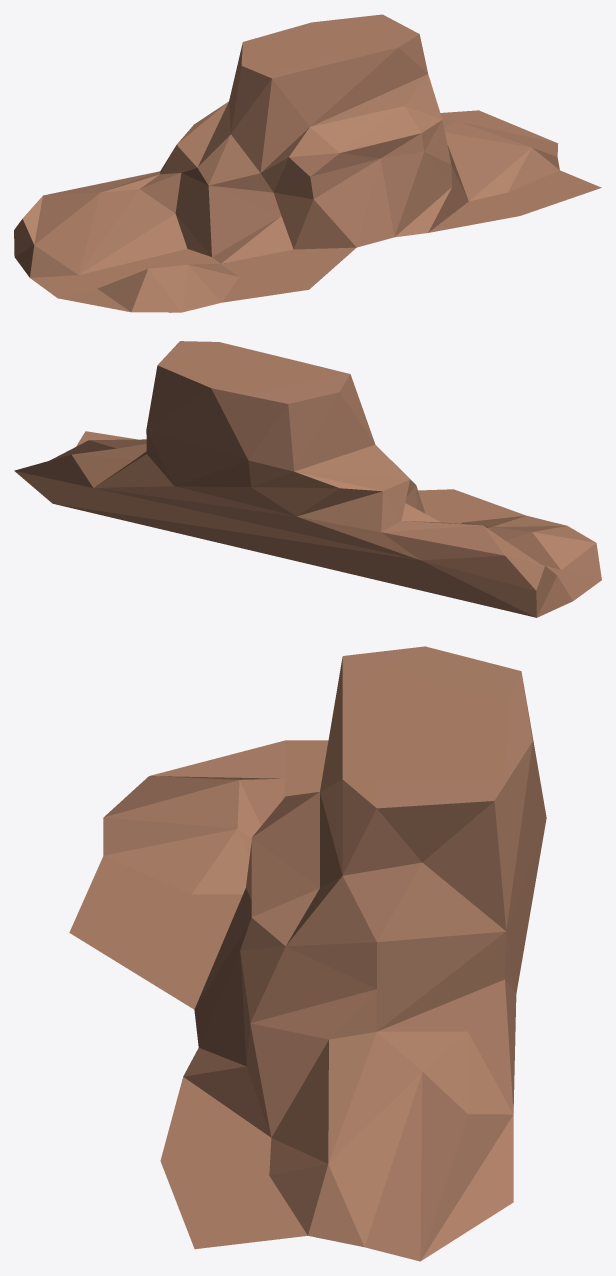
Rendered from 03 Mountain_1.FBX.
The picture shows the model from 3 angles, top to bottom: view 1: azimuth 30°, elevation 25°; view 2: azimuth 150°, elevation 25°; view 3: azimuth 270°, elevation 25°; orthographic projection. The views are drawn at different scales.
Parts seen in each view (by area): view 1: Mountain_1; view 2: Mountain_1; view 3: Mountain_1.
Part boxes in pixels (x1,y1,x2,y2): Mountain_1: (14, 14, 601, 312); Mountain_1: (14, 341, 601, 617); Mountain_1: (69, 646, 546, 1261).
Bounding box in the file's own units: 6227 × 1715 × 2410.
